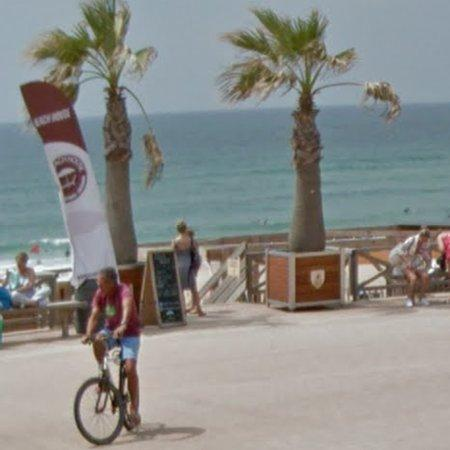bicycles: (74, 330, 131, 446)
